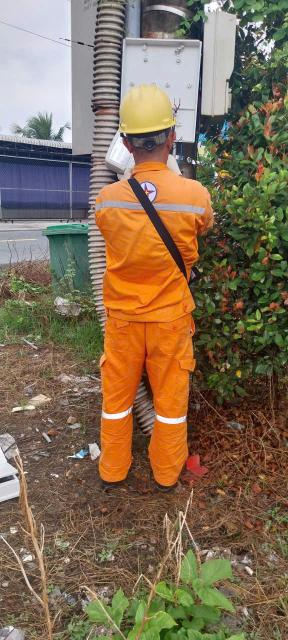helmet: (106, 76, 189, 147)
